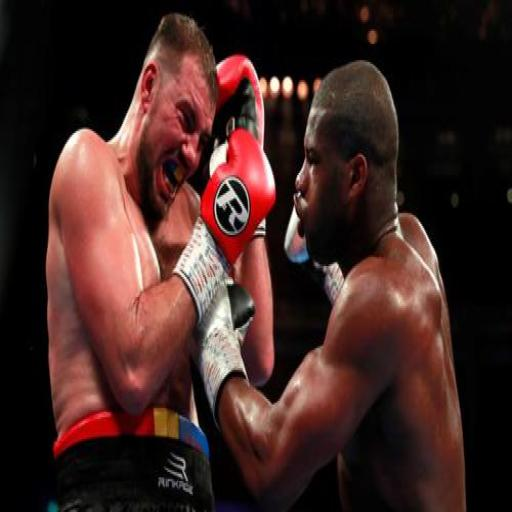boxing: (171, 84, 512, 512), (44, 11, 277, 510)
